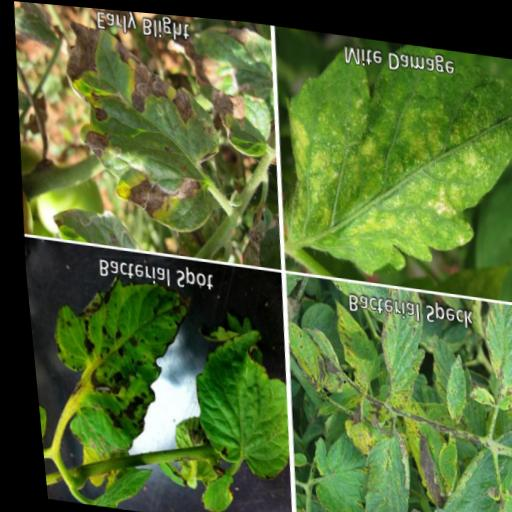Bacterial Spot: (23, 249, 200, 467), (170, 286, 291, 487), (360, 280, 422, 414), (287, 419, 376, 512), (452, 291, 512, 419), (321, 279, 380, 404), (343, 407, 411, 512), (283, 304, 343, 391), (418, 417, 456, 496), (468, 471, 512, 512)
Early Blight: (36, 19, 237, 233)
Spider Mites: (268, 33, 512, 275)
